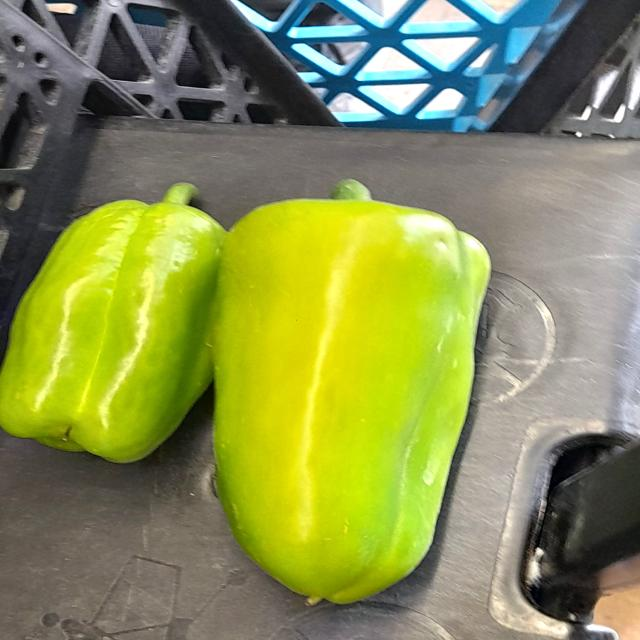bell pepper: (204, 157, 534, 611), (0, 144, 259, 468)
